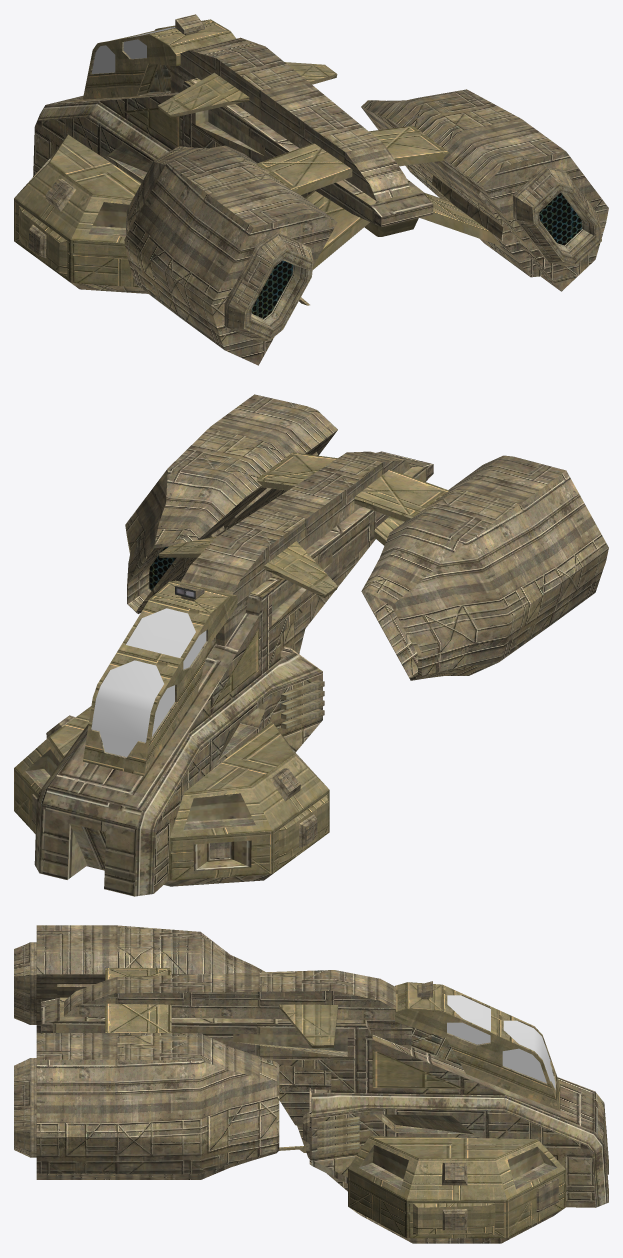
Rendered from Combat Attack Vehicle I.fbx.
3 renders of one model, top to bottom at view 1: azimuth 30°, elevation 25°; view 2: azimuth 150°, elevation 25°; view 3: azimuth 270°, elevation 25°, orthographic. The views are drawn at different scales.
Parts seen in each view (by area): view 1: CAVI_hull1, CAVI_hull3, CAVI_hull4, CAVI_grill, CAVI_glass; view 2: CAVI_hull1, CAVI_hull3, CAVI_hull4, CAVI_glass; view 3: CAVI_hull1, CAVI_hull3, CAVI_hull4, CAVI_glass.
Part boxes in pixels (box(x1,y1,x2,y2)): CAVI_hull1: box(28, 14, 608, 365); CAVI_hull3: box(14, 19, 501, 305); CAVI_hull4: box(25, 26, 601, 340); CAVI_grill: box(251, 192, 582, 318); CAVI_glass: box(91, 27, 175, 73); CAVI_hull1: box(32, 394, 608, 896); CAVI_hull3: box(14, 452, 449, 880); CAVI_hull4: box(25, 553, 332, 896); CAVI_glass: box(91, 608, 206, 757); CAVI_hull1: box(14, 925, 608, 1243); CAVI_hull3: box(105, 968, 566, 1238); CAVI_hull4: box(233, 995, 608, 1207); CAVI_glass: box(447, 995, 555, 1088).
Bounding box in the file's own units: 92.85 × 55.3 × 136.
6 materials, 6 textured.
